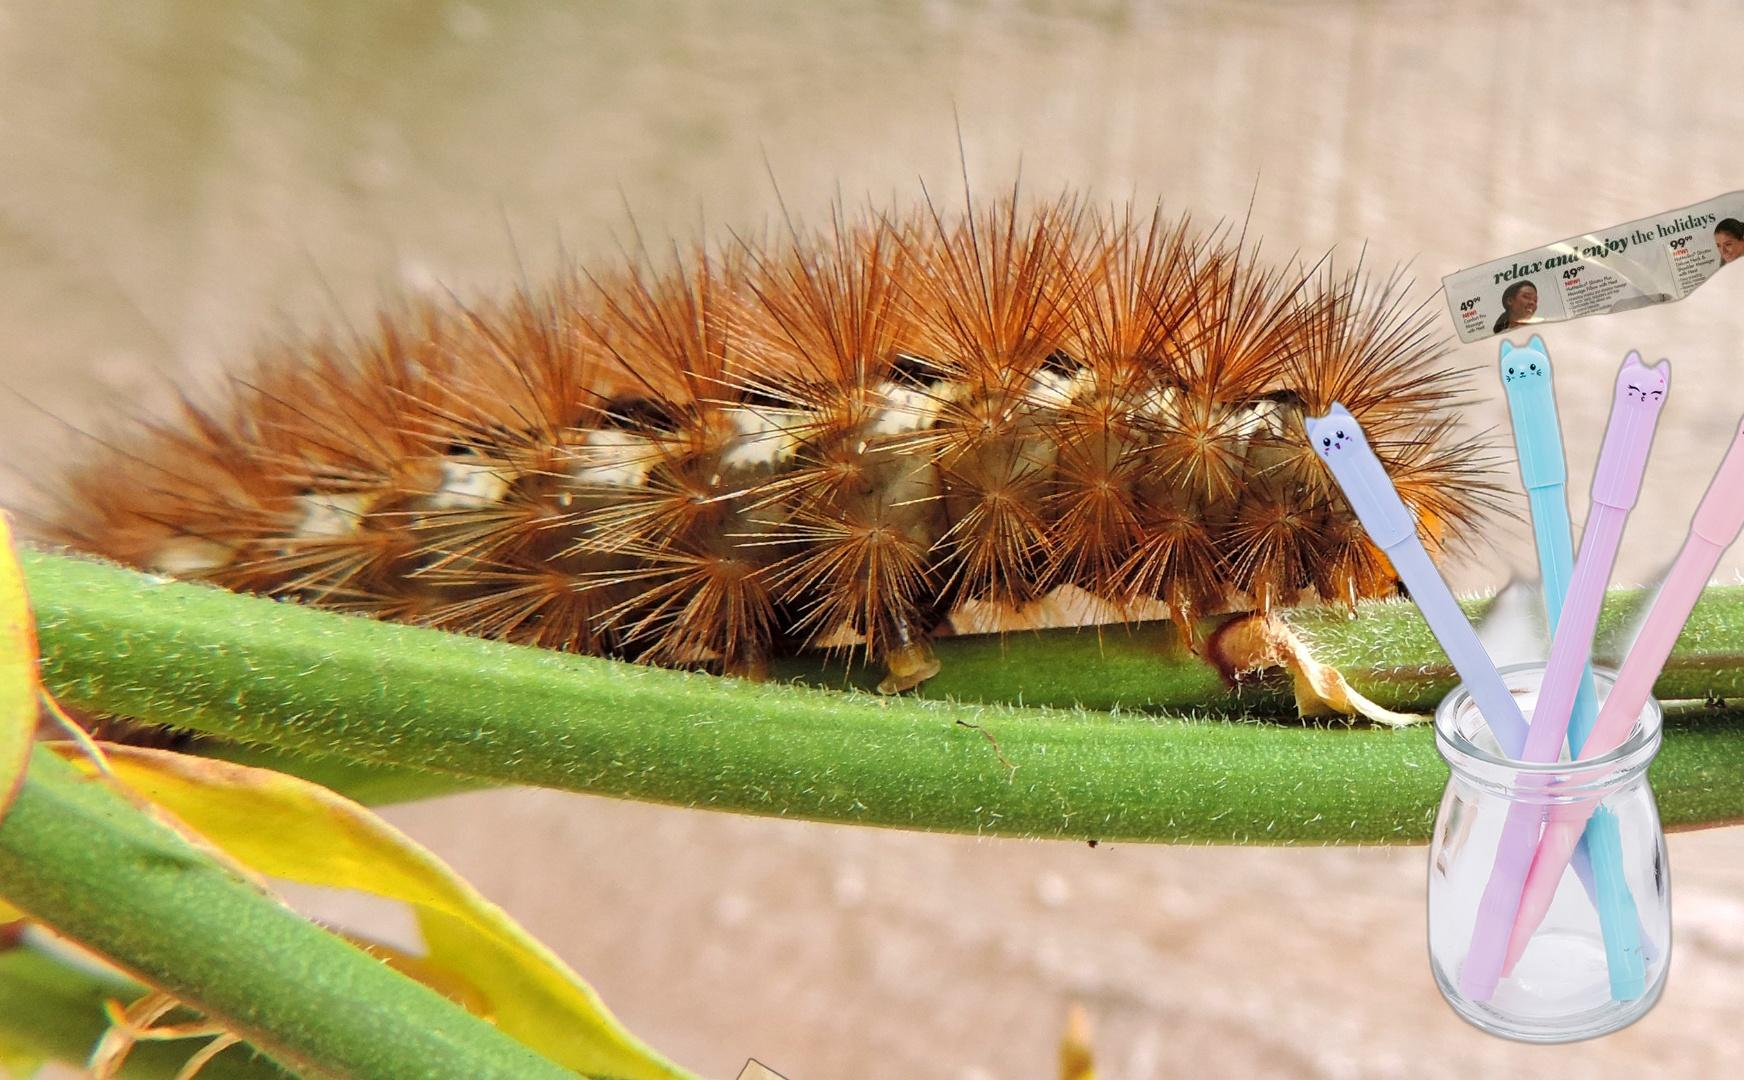paper: (1438, 182, 1744, 345)
paper-bag: (633, 1000, 873, 1080)
penholder: (1298, 328, 1744, 1053)
